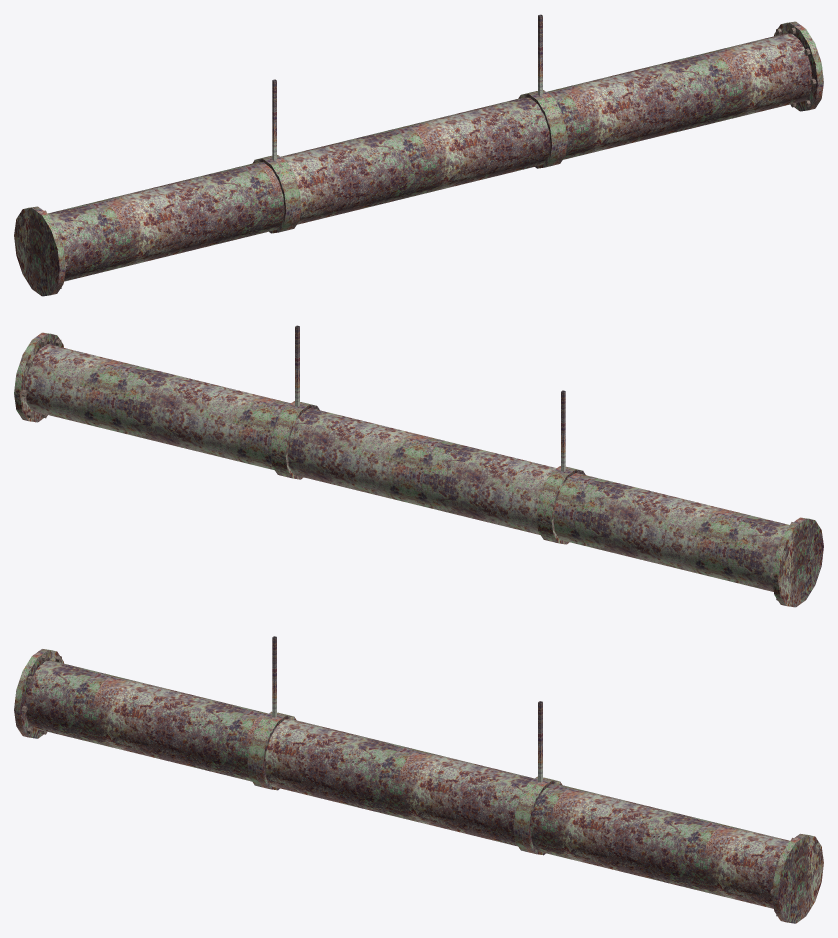
Rendered from pipe.FBX.
The picture shows the model from 3 angles, top to bottom: view 1: azimuth 30°, elevation 25°; view 2: azimuth 150°, elevation 25°; view 3: azimuth 330°, elevation 25°; orthographic projection.
Visible parts, largest first — view 1: pipe; view 2: pipe; view 3: pipe.
Boxes of the visible parts, box(x1,y1,x2,y2) form: pipe: box(14, 14, 823, 296); pipe: box(14, 325, 823, 607); pipe: box(14, 636, 823, 923).
Size of the model in its own units: 2.5 by 0.4827 by 0.26.
1 material, 1 textured.
